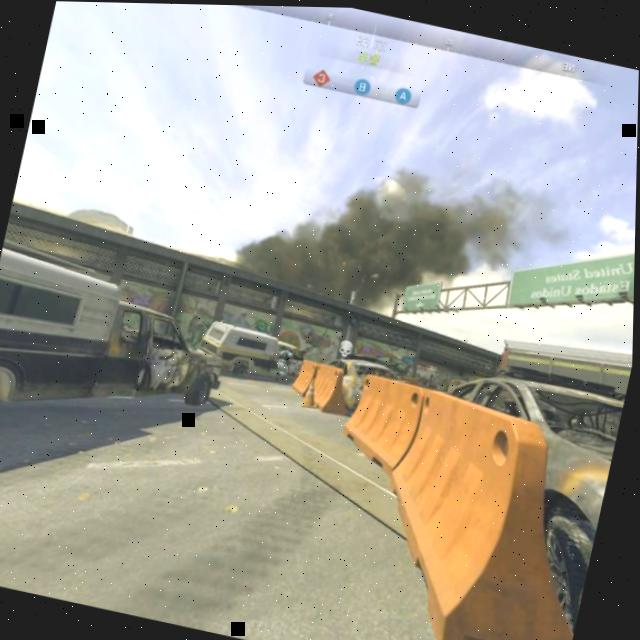MW2_body: (274, 343, 298, 384)
